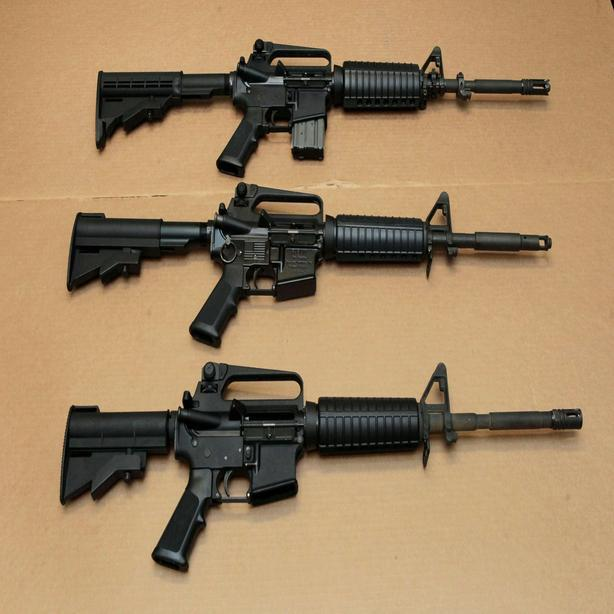Firearm: (49, 357, 604, 576), (57, 183, 573, 351), (81, 33, 566, 182)
